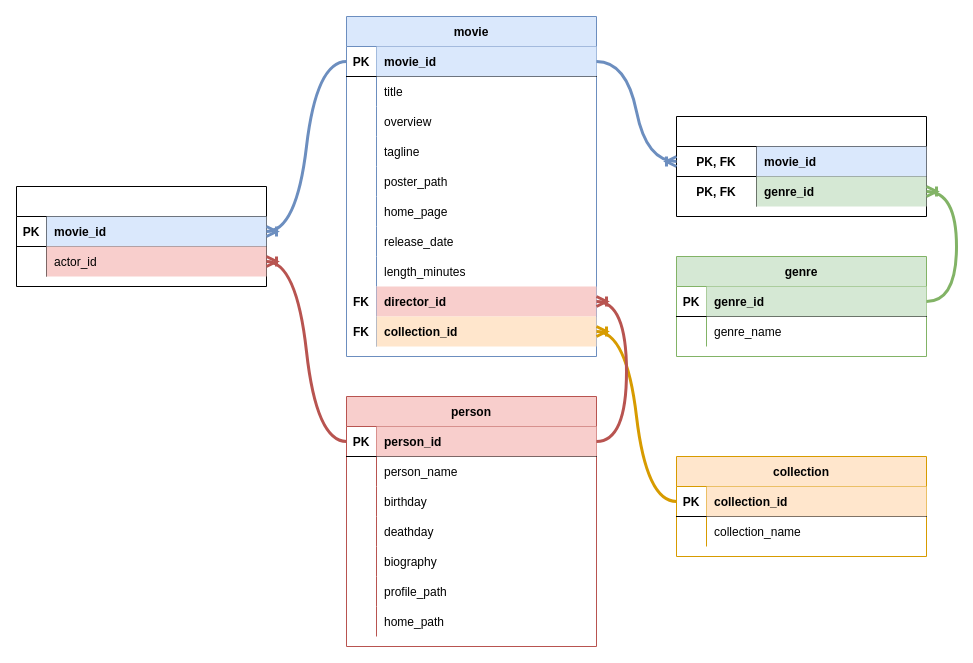
Image size: 973x663. Some labels were removed from this diagram. The shapes that lost their labels are listed below. From the top down, each one's box as (x1, y1, x2, y2) in pixels, then its label:
(676, 116, 926, 216): movie_genre
(16, 186, 266, 286): movie_actor
